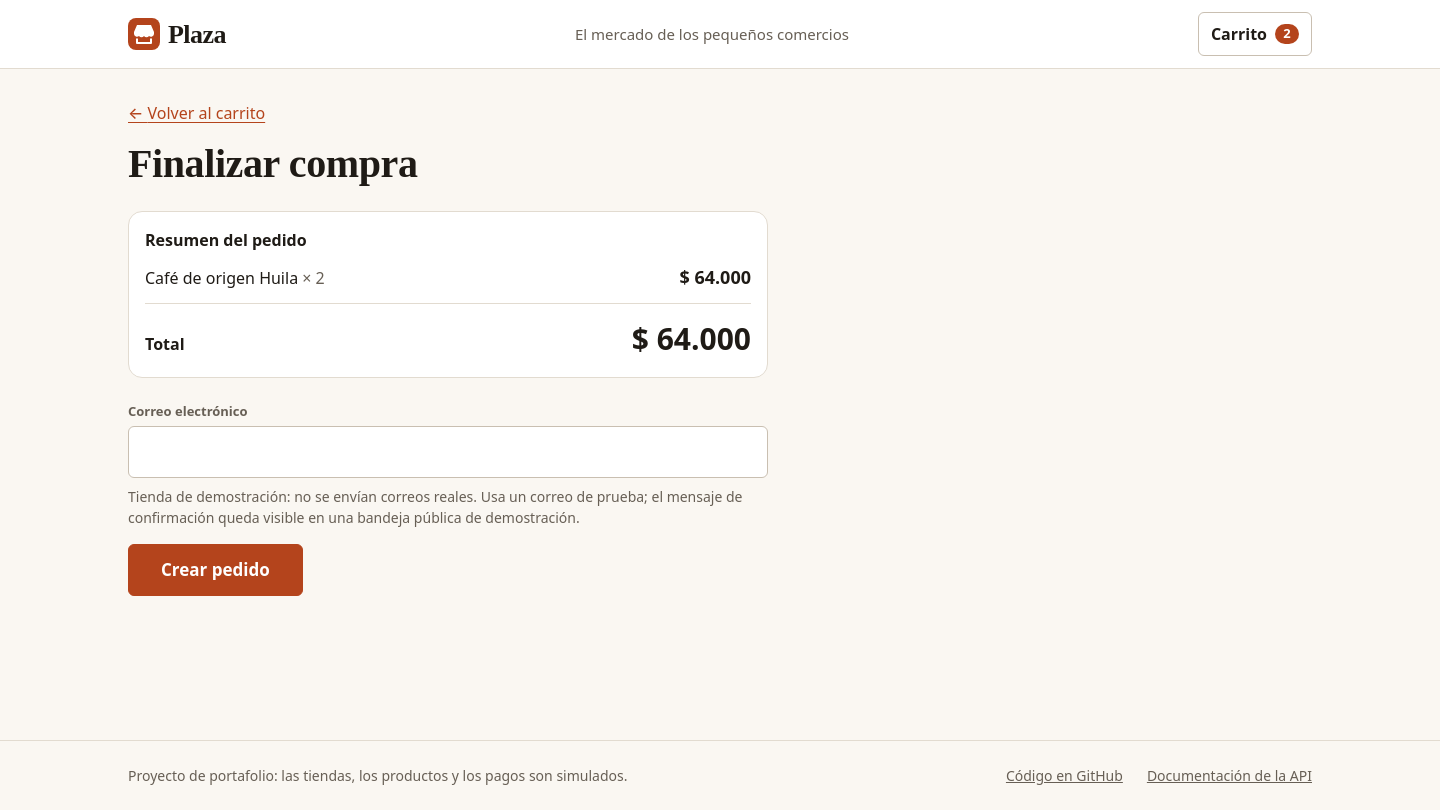
Test case: CheckoutPage › rejects text that does not look like an e-mail
Step 1. Type "ana@" into the field labelled "Correo electrónico" → (448, 452), box [128, 426, 768, 478]
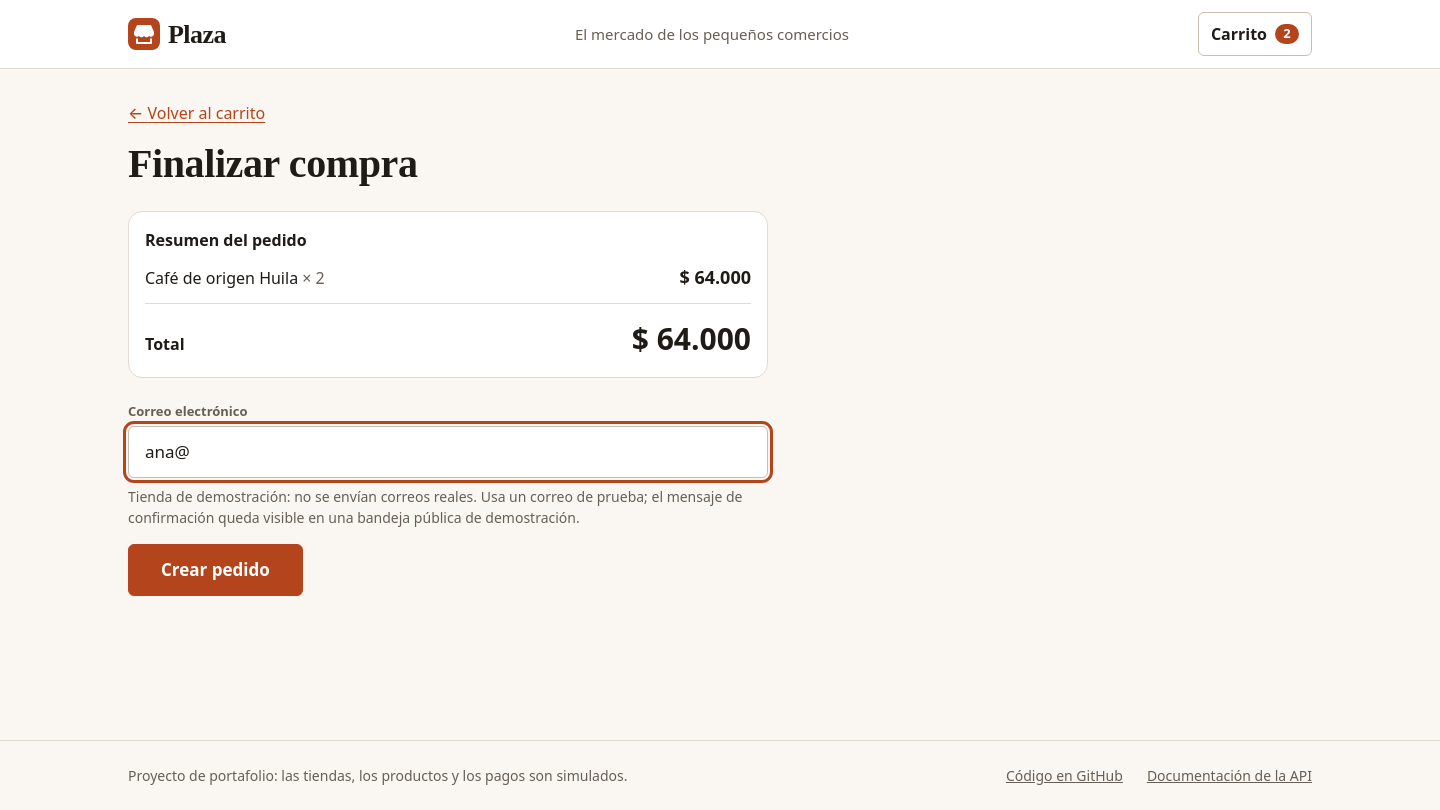
Step 2. Click the button "Crear pedido" → (215, 570), box [128, 544, 303, 596]
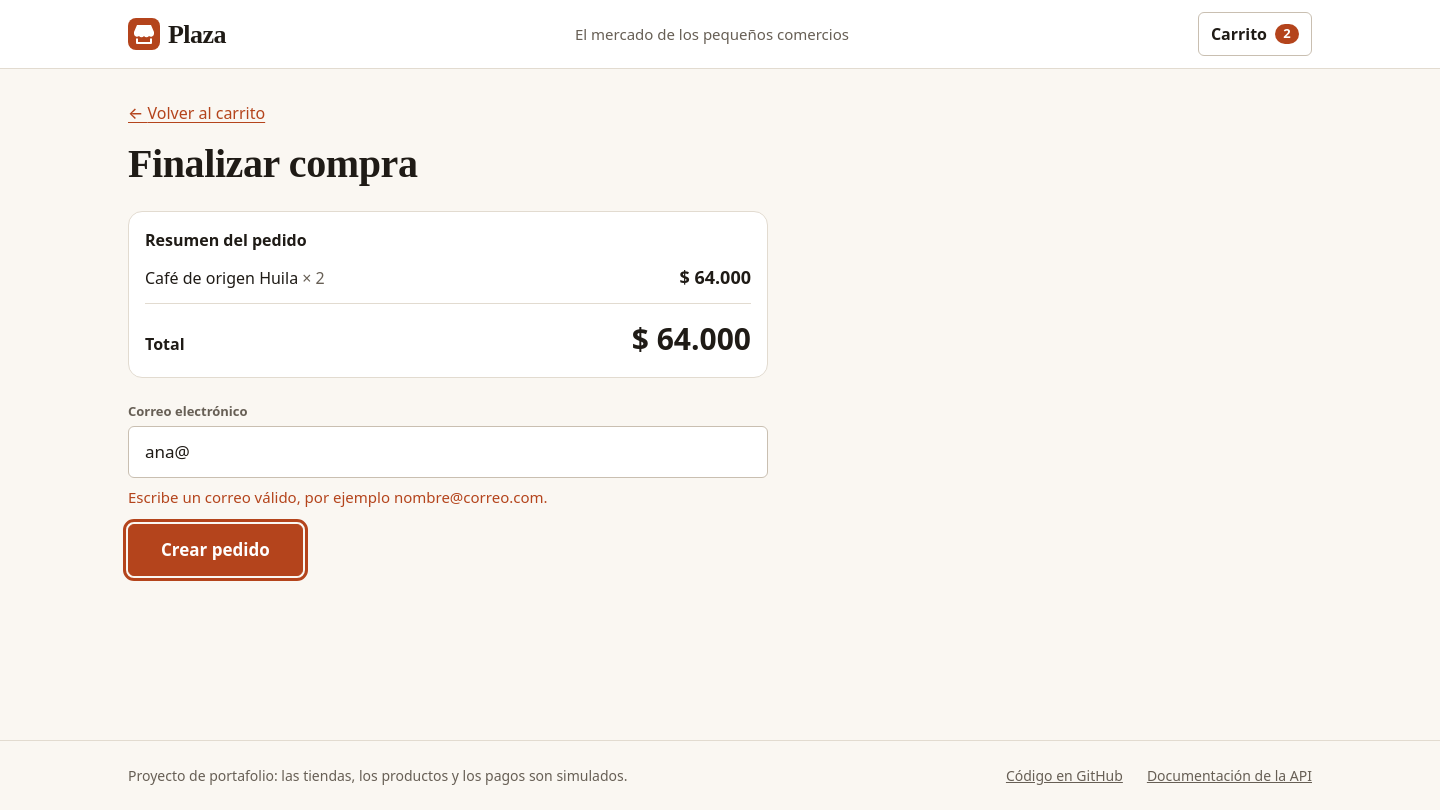
Expected: the message shows "Escribe un correo válido", [128, 486, 548, 506]
